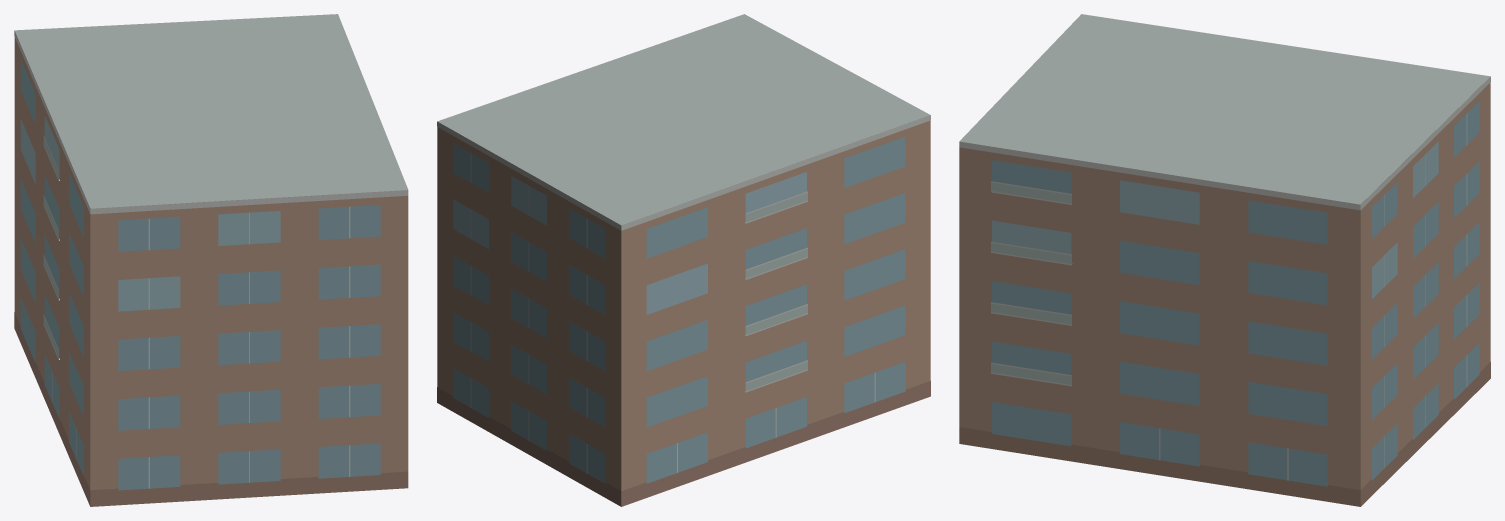
Rendered from survey-upis-32524920.glb.
The picture shows the model from 3 angles, left to right: view 1: azimuth 30°, elevation 25°; view 2: azimuth 150°, elevation 25°; view 3: azimuth 270°, elevation 25°; orthographic projection. The views are drawn at different scales.
Parts seen in each view (by area): view 1: survey-upis-32524920.tmp; view 2: survey-upis-32524920.tmp; view 3: survey-upis-32524920.tmp.
Boxes of the visible parts, x1,y1,x2,y2 form: survey-upis-32524920.tmp: [14, 14, 408, 506]; survey-upis-32524920.tmp: [437, 14, 930, 506]; survey-upis-32524920.tmp: [959, 14, 1490, 506].
Size of the model in its own units: 17.32 by 12.8 by 20.41.
